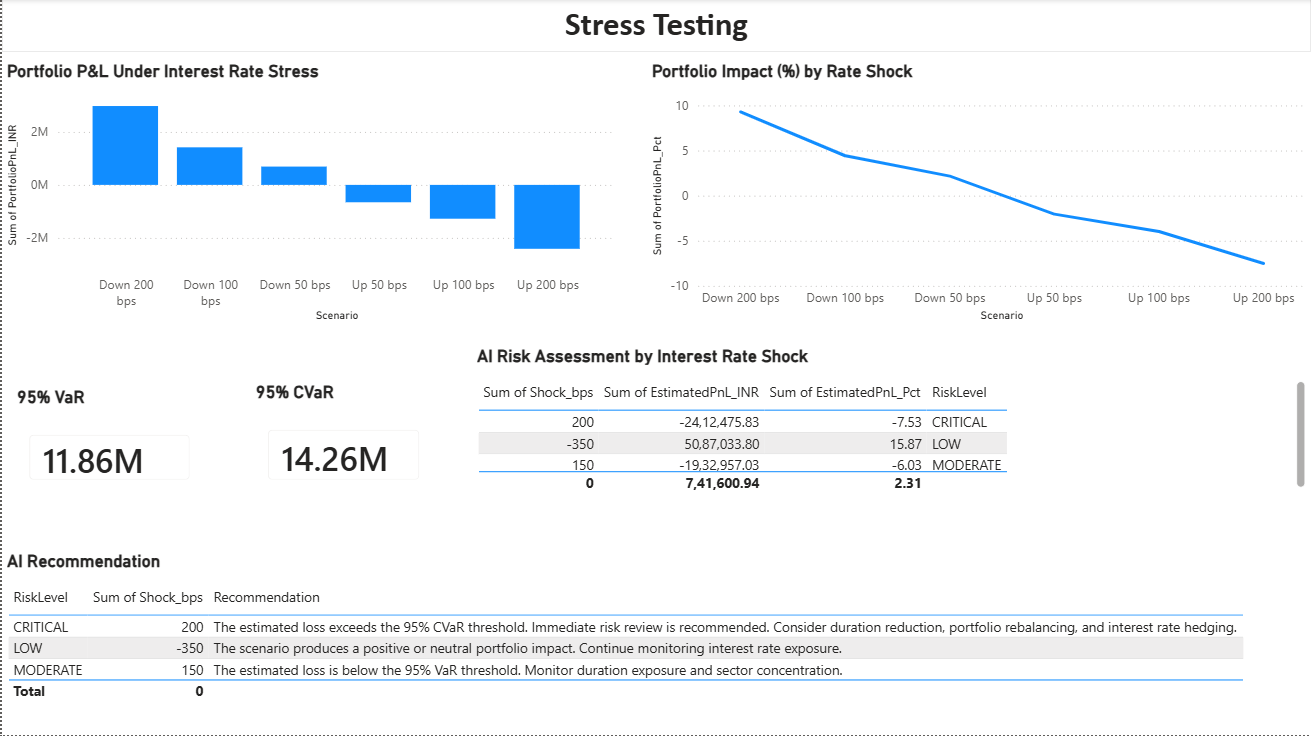

This screenshot's page, from the dashboard's own definition file:
{"tool":"powerbi","page":{"name":"Stress Testing","canvas":[1280,720],"ordinal":1},"visuals":[{"type":"textbox","box":[0,0,1280.3,51.4],"z":0},{"type":"clusteredColumnChart","title":"Portfolio P&L Under Interest Rate Stress","fields":{"Category":["interest_rate_stress_results.Scenario"],"Y":["Sum(interest_rate_stress_results.PortfolioPnL_INR)"]},"box":[0,59.9,605.3,260.5],"z":1000},{"type":"lineChart","title":"Portfolio Impact (%) by Rate Shock","fields":{"Category":["interest_rate_stress_results.Scenario"],"Y":["Sum(interest_rate_stress_results.PortfolioPnL_Pct)"]},"box":[631,59.9,649.3,260.5],"z":2000},{"type":"tableEx","title":"AI Risk Assessment by Interest Rate Shock","fields":{"Values":["Sum(ai_agent_risk_assessment.Shock_bps)","Sum(ai_agent_risk_assessment.EstimatedPnL_INR)","Sum(ai_agent_risk_assessment.EstimatedPnL_Pct)","ai_agent_risk_assessment.RiskLevel"]},"box":[459.8,338.7,820.5,149.2],"z":3000},{"type":"cardVisual","title":"95% VaR","fields":{"Data":["Sum(ai_agent_risk_assessment.VaR_95_INR)"]},"box":[9.8,379.1,192,108.8],"z":4000},{"type":"cardVisual","title":"95% CVaR","fields":{"Data":["Sum(ai_agent_risk_assessment.CVaR_95_INR)"]},"box":[243.3,374.2,182.2,113.7],"z":5000},{"type":"tableEx","title":"AI Recommendation","fields":{"Values":["ai_agent_risk_assessment.RiskLevel","Sum(ai_agent_risk_assessment.Shock_bps)","ai_agent_risk_assessment.Recommendation"]},"box":[0,539.3,1280.3,181],"z":6000}]}

Visuals, with their boxes in screenshot pixels (x1, y1, x2, y2), scaled from the page's 1280x720 canvas onto the 1311x736 screenshot:
textbox: [x1=0, y1=0, x2=1310, y2=53]
"Portfolio P&L Under Interest Rate Stress" clusteredColumnChart: [x1=0, y1=61, x2=620, y2=328]
"Portfolio Impact (%) by Rate Shock" lineChart: [x1=646, y1=61, x2=1310, y2=328]
"AI Risk Assessment by Interest Rate Shock" tableEx: [x1=471, y1=346, x2=1310, y2=499]
"95% VaR" cardVisual: [x1=10, y1=388, x2=207, y2=499]
"95% CVaR" cardVisual: [x1=249, y1=383, x2=436, y2=499]
"AI Recommendation" tableEx: [x1=0, y1=551, x2=1310, y2=735]
